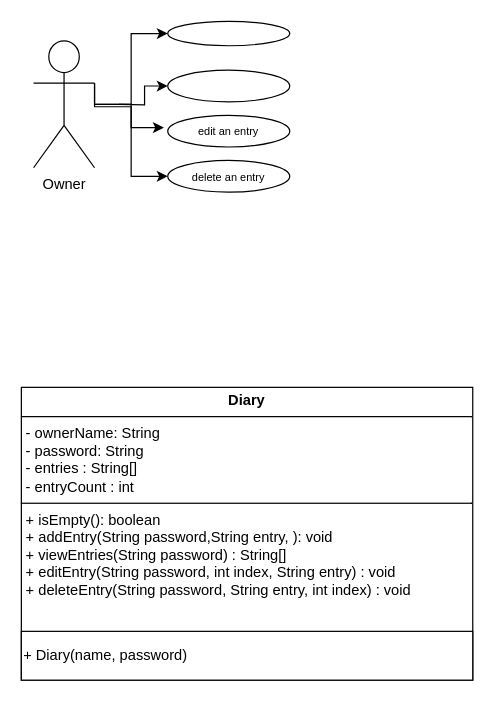
Image size: 494x702. Some labels were removed from this diagram. The box of each missing label's shape, as (x1, y1, x2, y2) in pixels:
add entry: (167, 20, 290, 46)
view entries: (167, 69, 290, 102)
